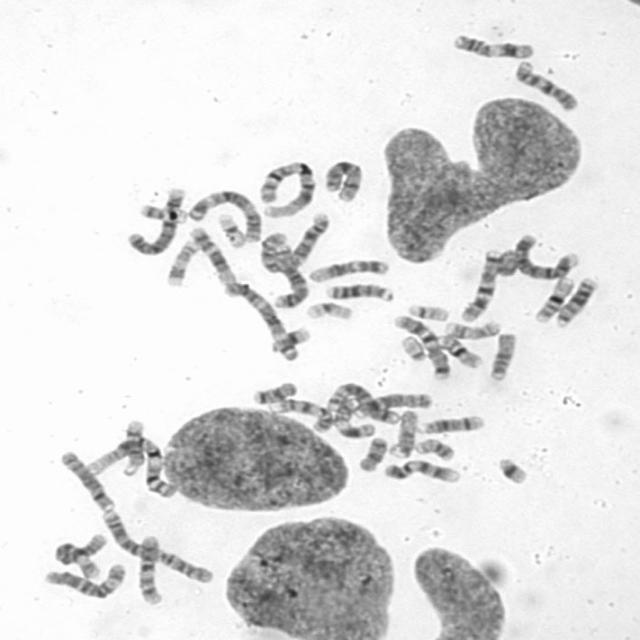A1: (83, 433, 178, 499), (254, 156, 318, 218)
A2: (95, 505, 216, 585), (255, 208, 332, 274)
A3: (220, 278, 302, 362), (186, 185, 264, 244)
B4: (122, 184, 186, 257), (508, 230, 582, 282)
B5: (322, 377, 401, 425), (269, 240, 310, 309)
C10: (511, 56, 582, 112), (134, 531, 165, 606)
C11: (450, 30, 538, 60), (330, 393, 377, 439)
C12: (185, 223, 238, 286), (305, 254, 392, 284)
C6: (39, 558, 130, 600), (49, 531, 108, 579)
C7: (391, 311, 452, 380), (457, 246, 502, 324)
C8: (56, 446, 117, 512), (350, 389, 435, 419)
C9: (269, 395, 335, 433), (379, 456, 463, 484)
D13: (552, 273, 600, 328), (323, 278, 396, 302)
D14: (414, 410, 488, 436), (118, 415, 148, 476)
D15: (384, 407, 420, 459), (485, 328, 519, 382)
E16: (530, 272, 578, 324), (435, 330, 485, 369)
E17: (162, 236, 201, 288), (440, 317, 503, 340)
E18: (248, 378, 300, 406), (354, 433, 390, 473)
F19: (214, 208, 248, 248), (302, 298, 354, 322)
F20: (135, 200, 189, 224), (412, 434, 458, 462)
G21: (493, 452, 532, 485), (268, 327, 312, 352)
G22: (403, 299, 451, 322), (396, 331, 429, 362)
X: (320, 155, 366, 204)
